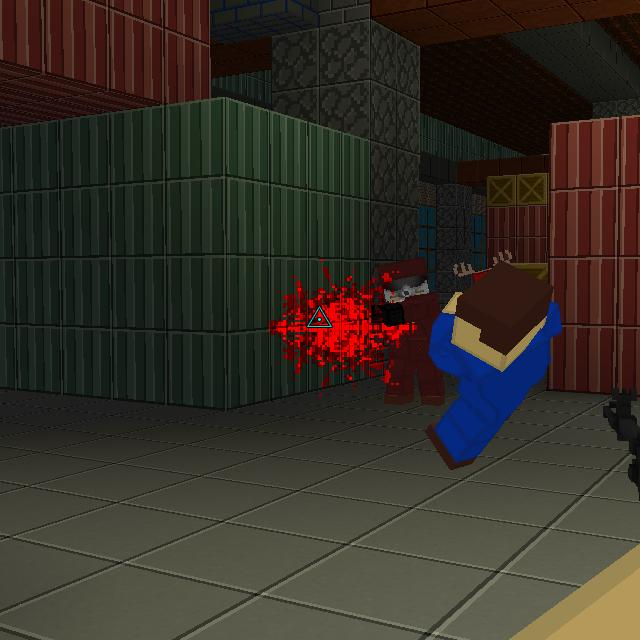enemy: (372, 255, 448, 408)
